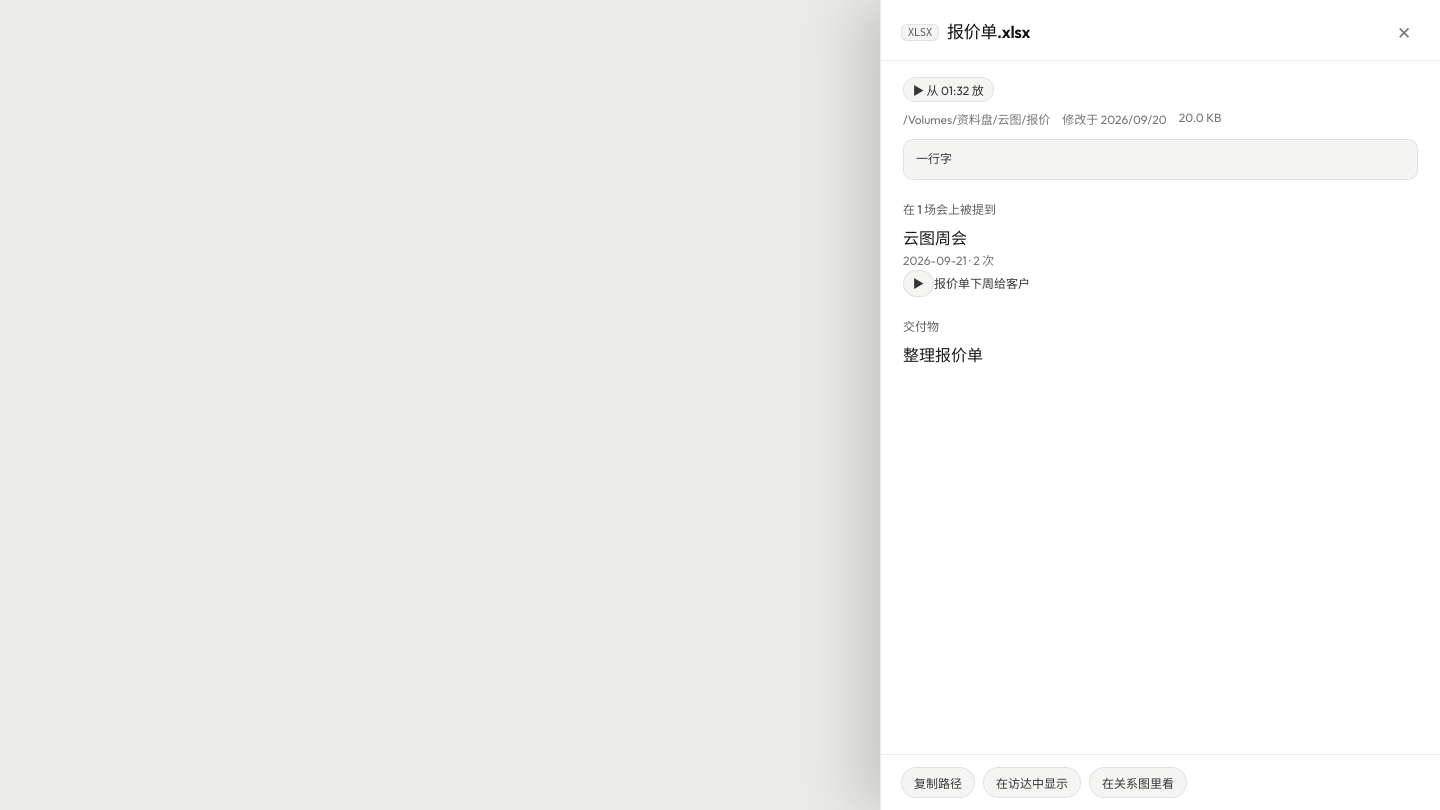
Test: MaterialPreviewDrawer › 手机上浏览器拦了自动播放：显示「▶ 从 01:32 放」，点了再放
Click the button "▶ 从 01:32 放" at [948, 90], box [903,77,994,102]
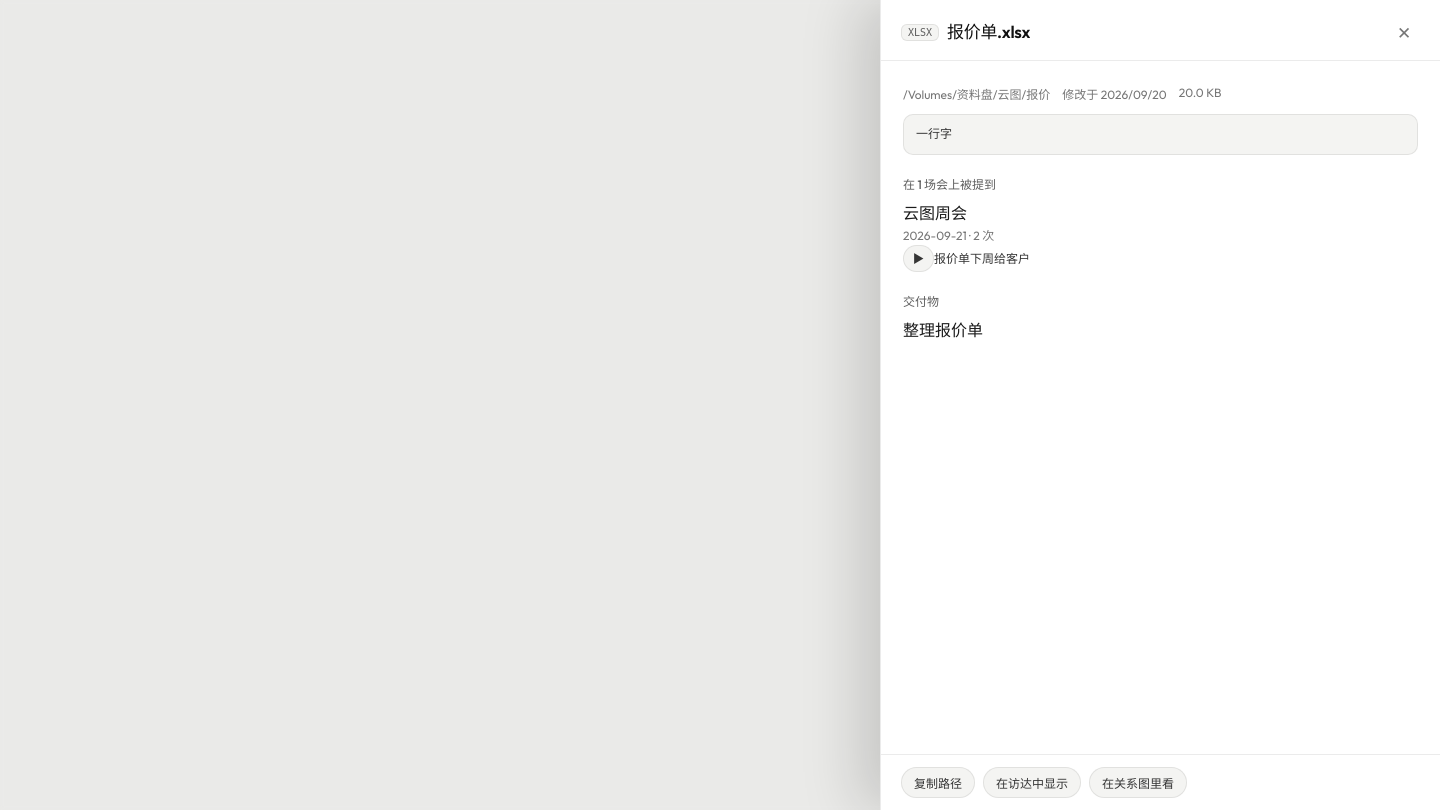
expect the button "▶ 从 01:32 放" is gone: met
